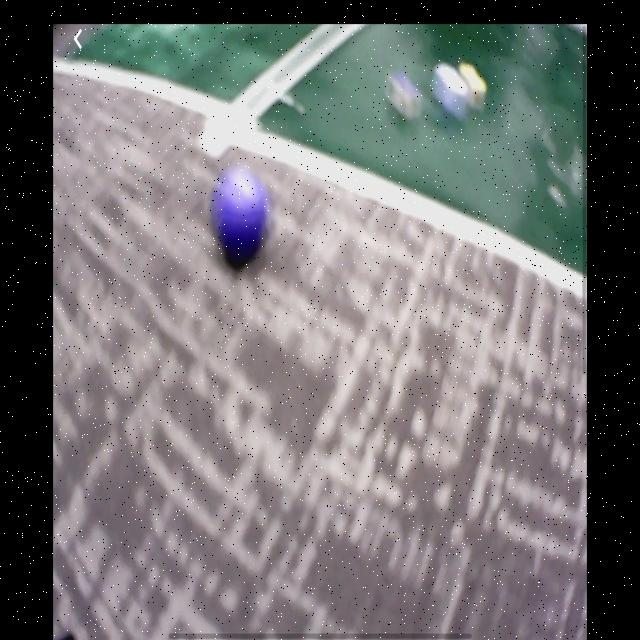ball: (213, 170, 268, 257)
